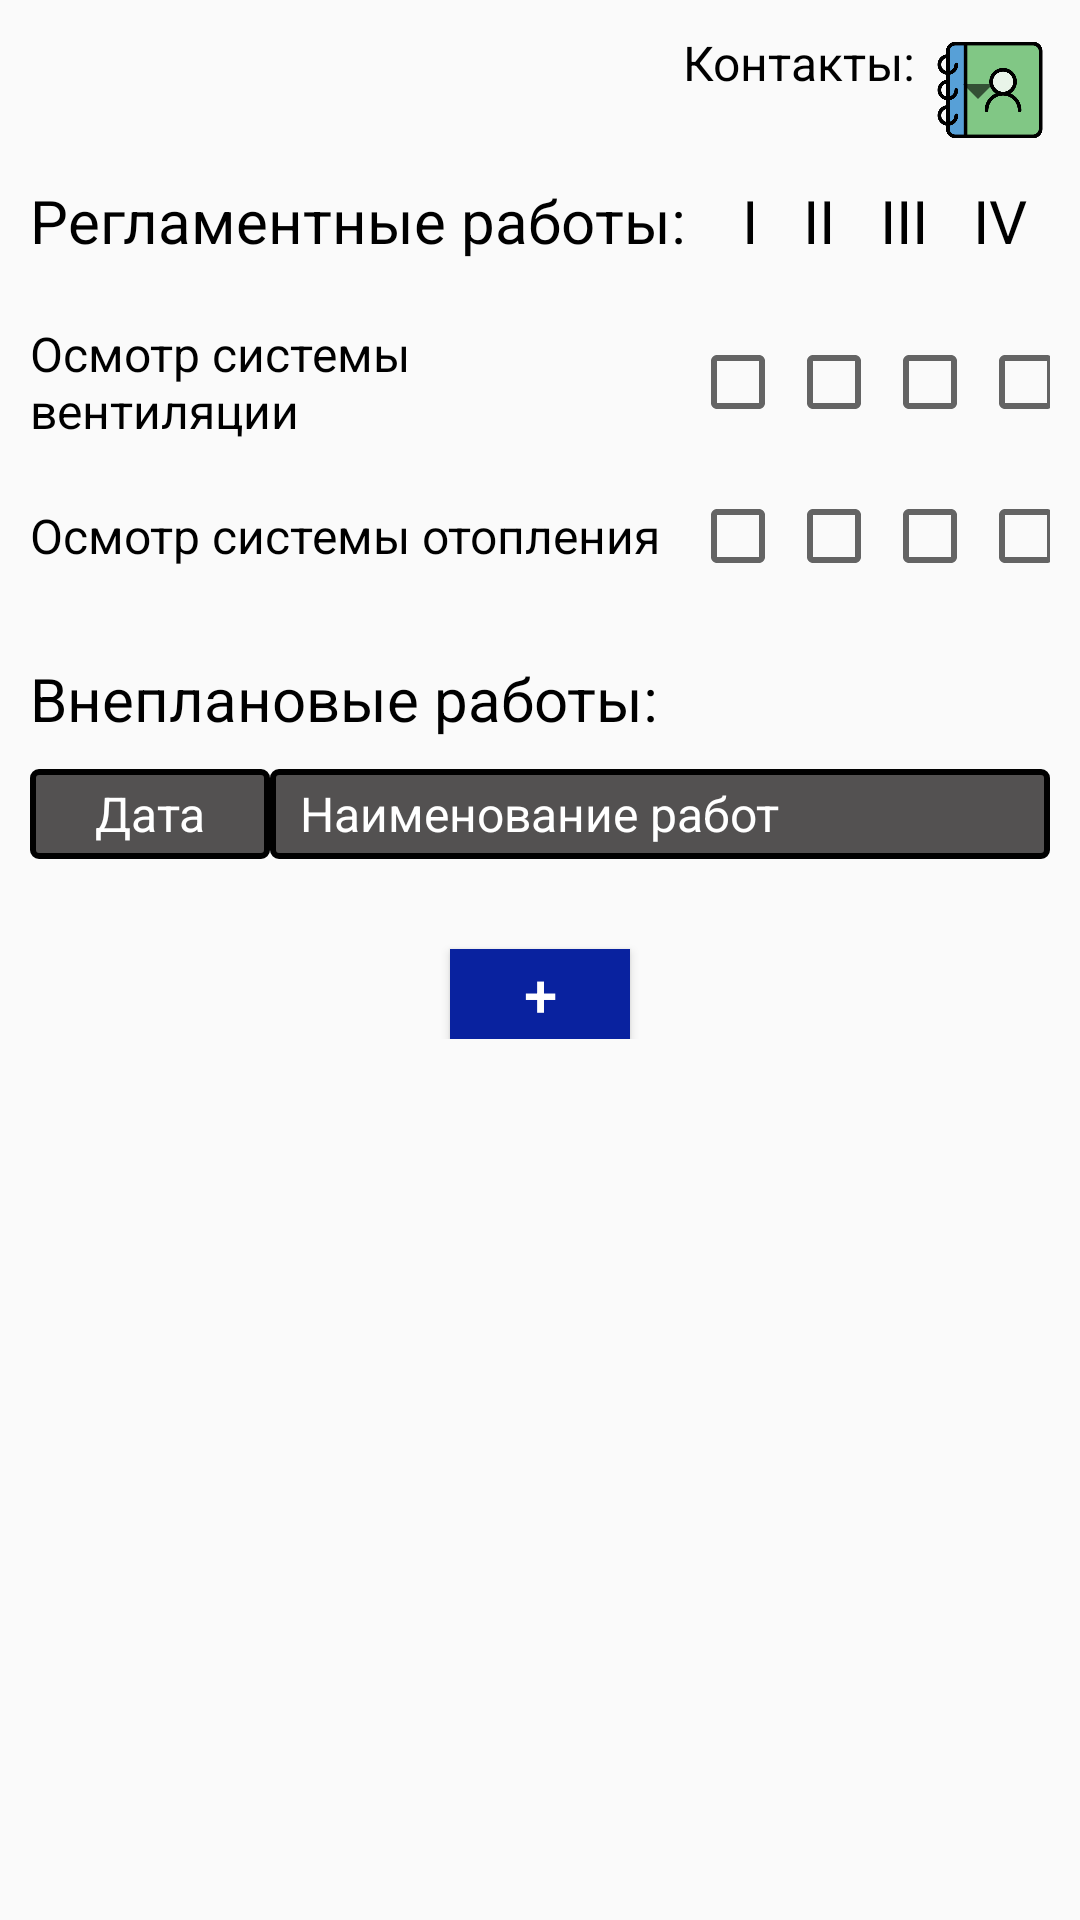

Icon click points for this 1080×1920 phone screenshot, format [x,y]:
contacs: [990,90]
